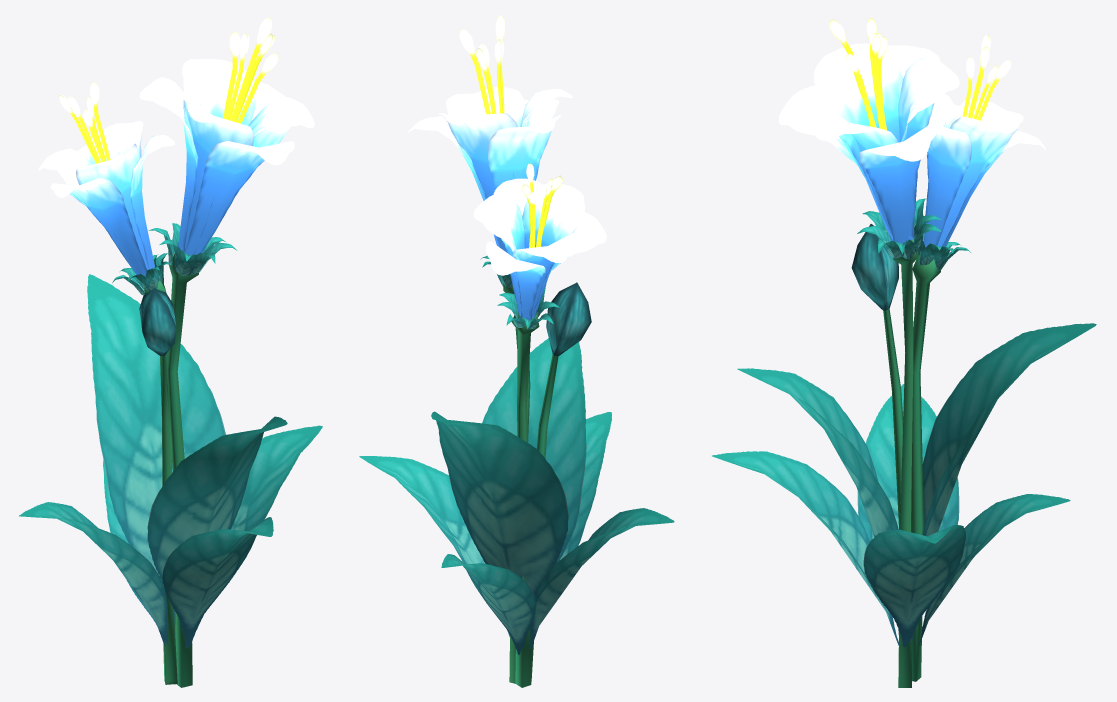
The model's file is SM_ENV_flower_ancient_05.fbx.
3 views of the same model, side by side, from view 1: azimuth 30°, elevation 25°; view 2: azimuth 150°, elevation 25°; view 3: azimuth 270°, elevation 25° (orthographic). The views are drawn at different scales.
Parts seen in each view (by area): view 1: SM_ENV_flower_ancient_05_LOD0; view 2: SM_ENV_flower_ancient_05_LOD0; view 3: SM_ENV_flower_ancient_05_LOD0.
Boxes of the visible parts, <box> form: SM_ENV_flower_ancient_05_LOD0: <box>19,17,322,687</box>; SM_ENV_flower_ancient_05_LOD0: <box>359,15,674,687</box>; SM_ENV_flower_ancient_05_LOD0: <box>712,18,1096,687</box>.
Size of the model in its own units: 41.08 by 80.13 by 41.41.
